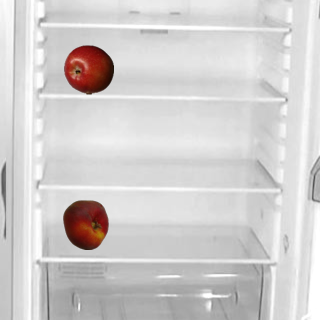Apple Braeburn: (63, 44, 113, 94)
Nectarine Flat: (60, 199, 110, 249)
